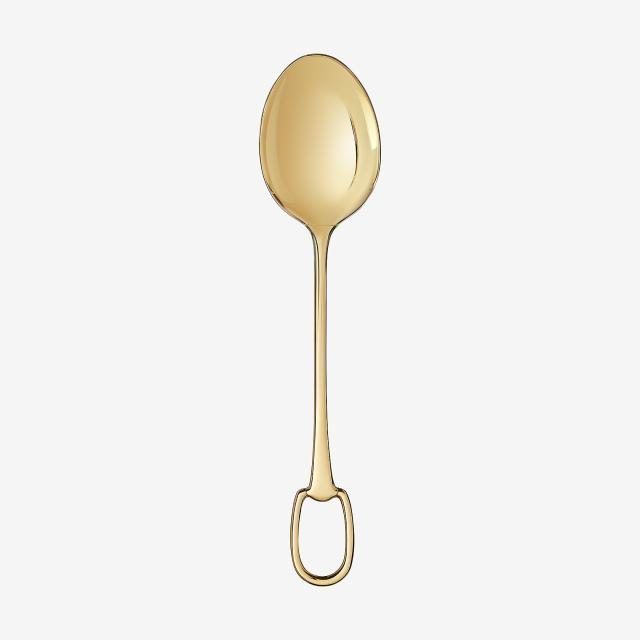spoon: (249, 42, 391, 589)
